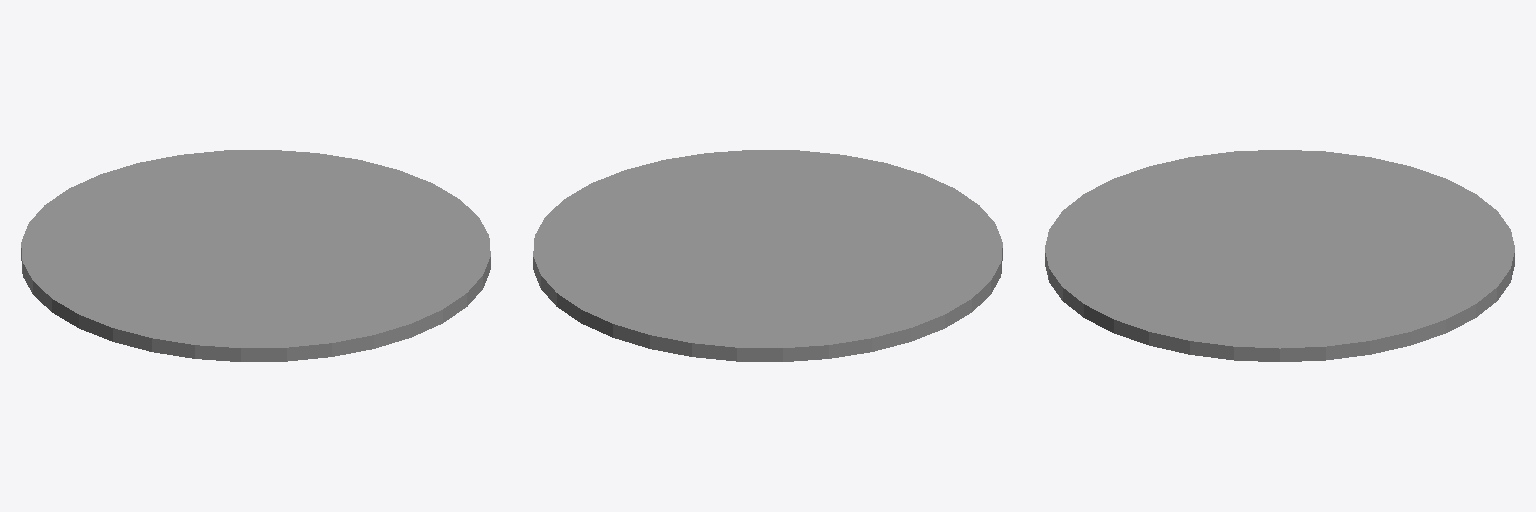
File: Salami.obj
3 renders of one model, left to right at view 1: azimuth 30°, elevation 25°; view 2: azimuth 150°, elevation 25°; view 3: azimuth 270°, elevation 25°, orthographic.
Parts seen in each view (by area): view 1: Cylinder; view 2: Cylinder; view 3: Cylinder.
Boxes of the visible parts, x1,y1,x2,y2 form: Cylinder: [21, 150, 490, 361]; Cylinder: [533, 150, 1002, 361]; Cylinder: [1045, 150, 1514, 361].
Bounding box in the file's own units: 5.42 × 0.1764 × 5.42.